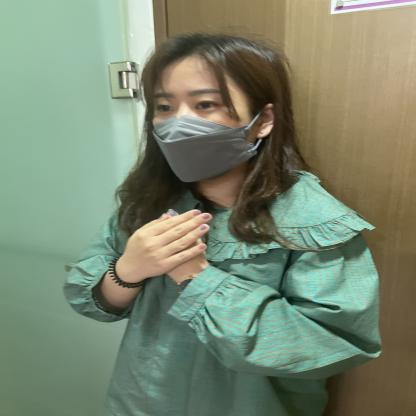Grieve: (57, 152, 289, 338)
